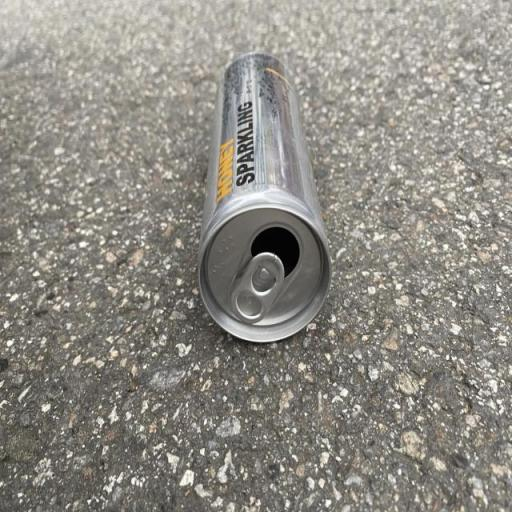metal: (182, 31, 343, 360)
